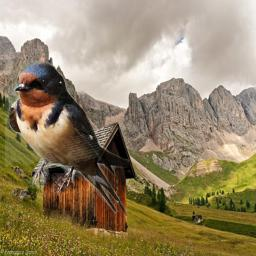Swallow: (5, 61, 129, 218)
